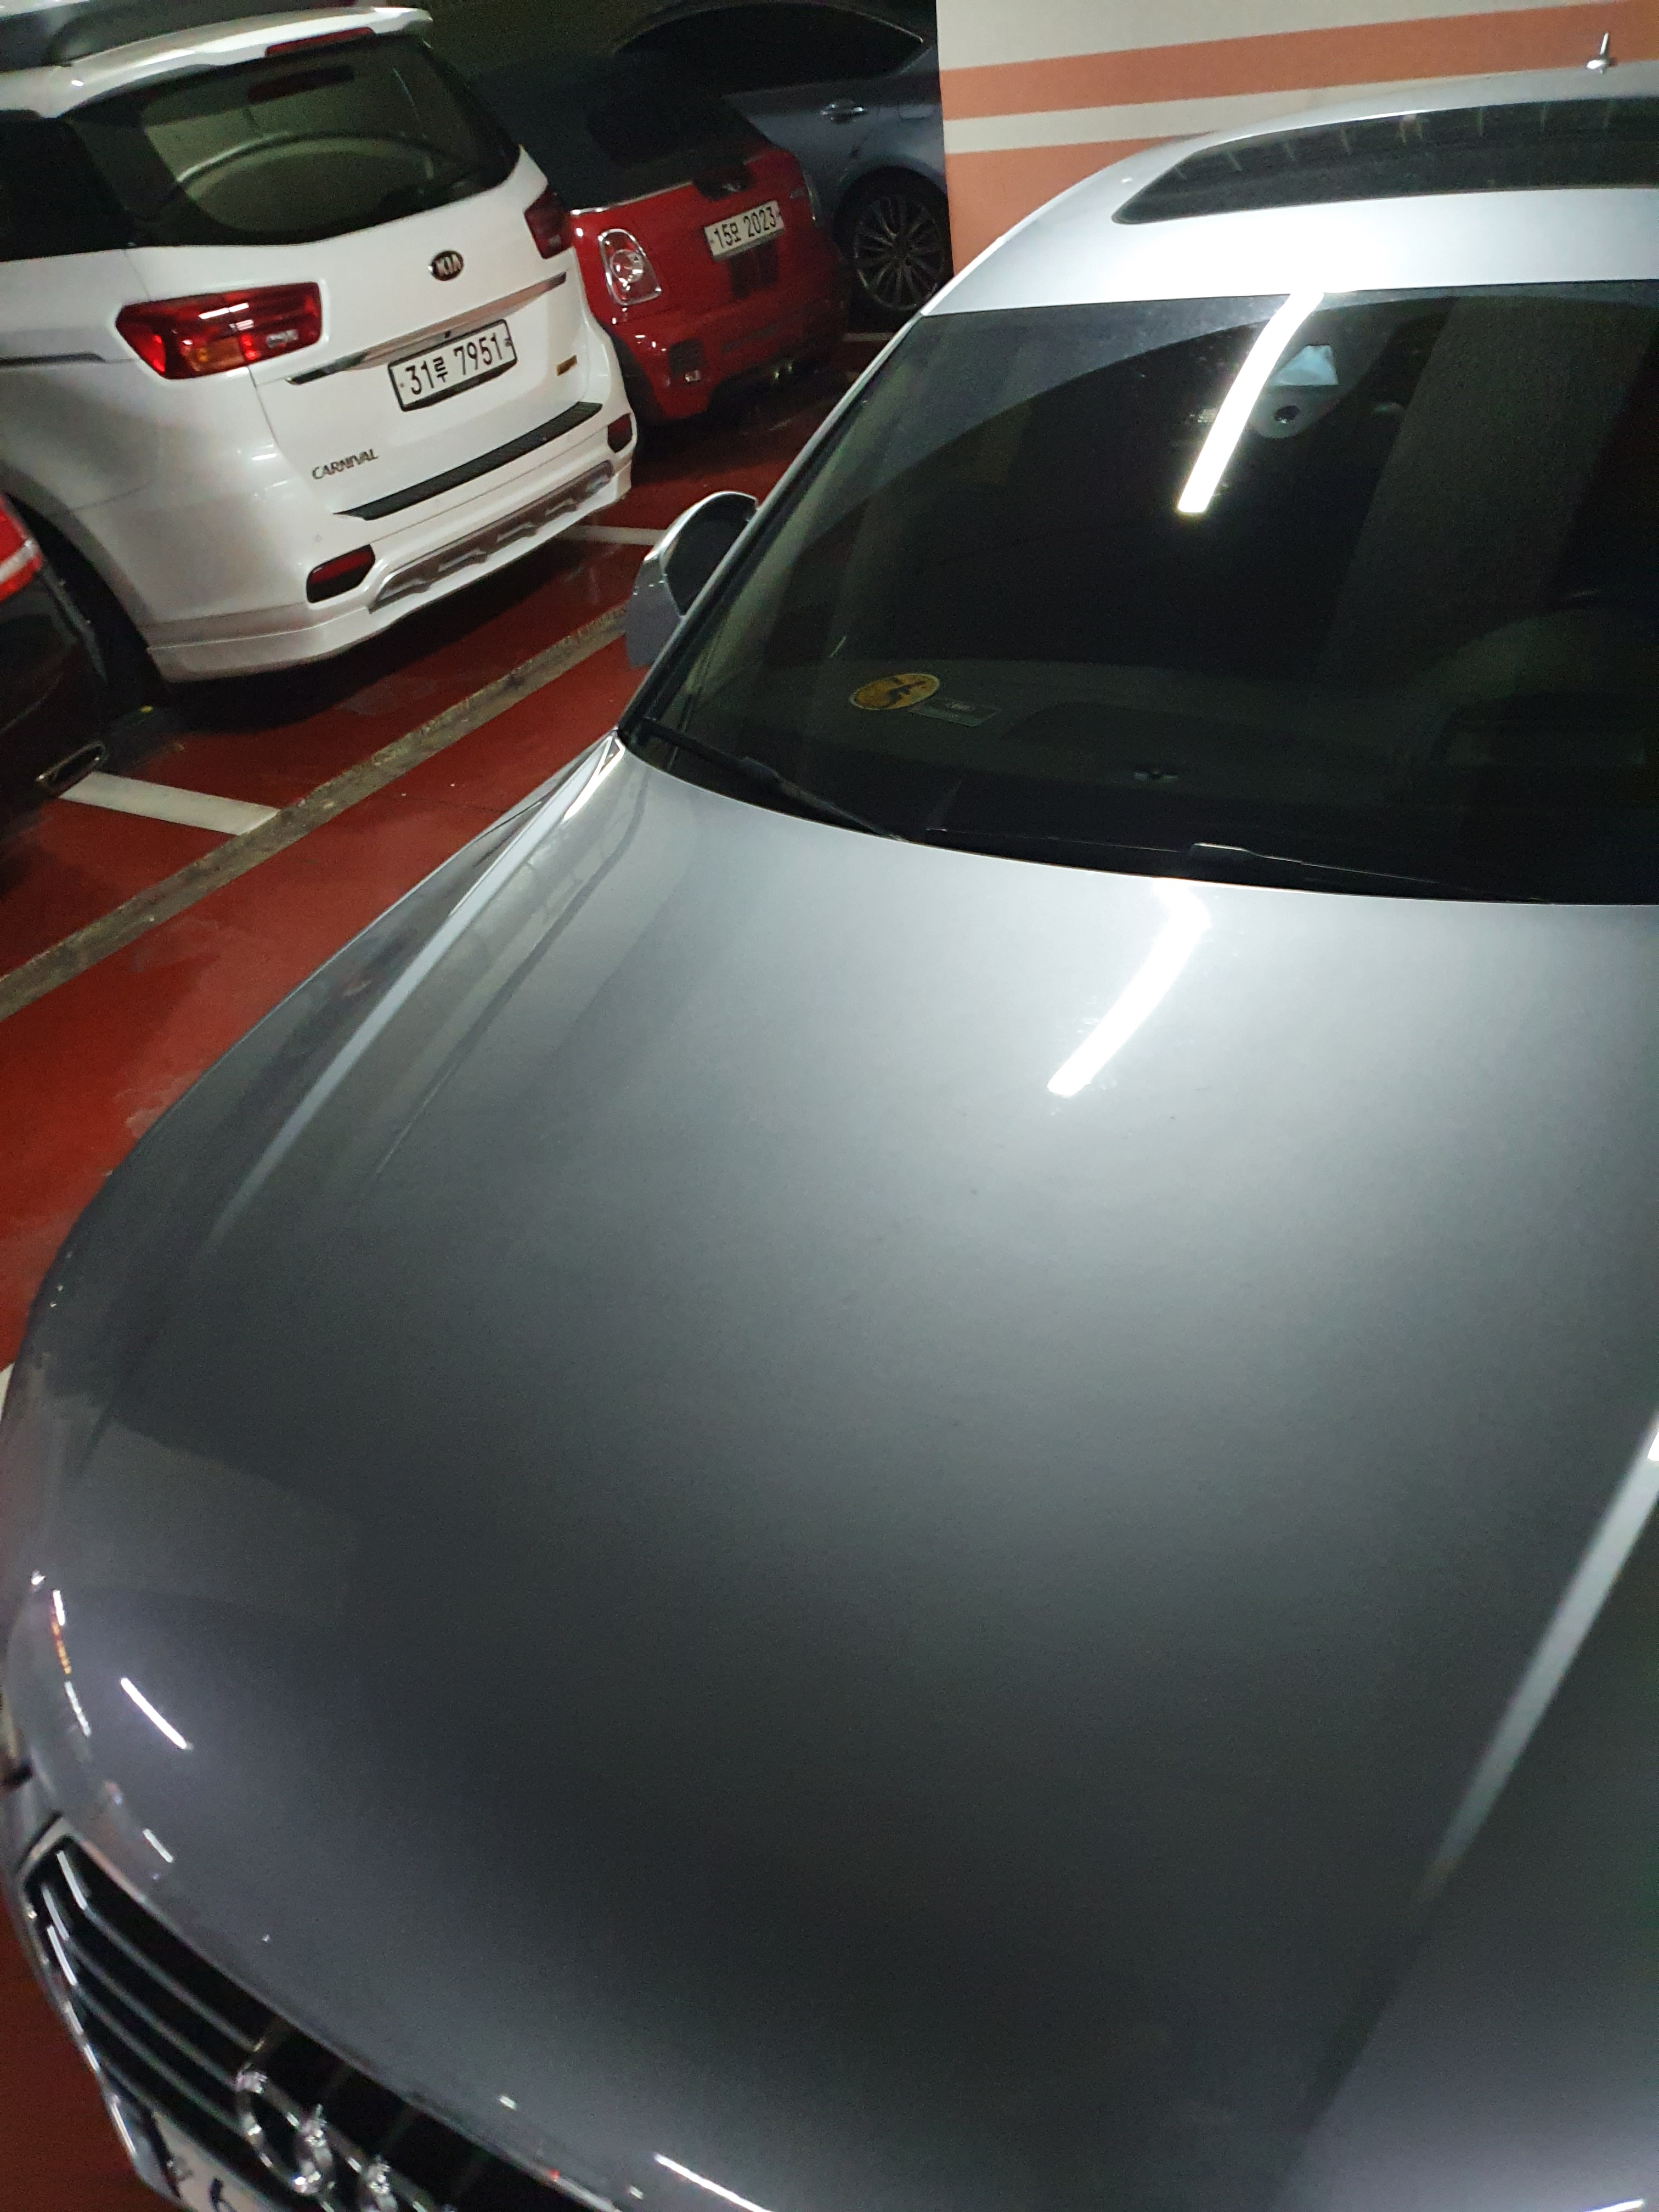disabled_parking: (843, 660, 945, 718)
